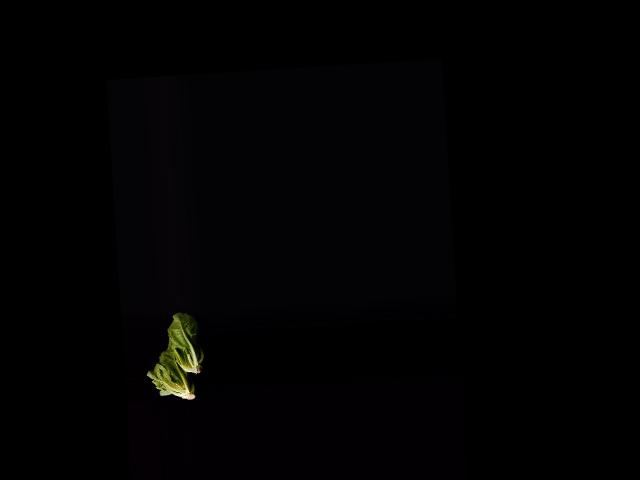lettuce: (145, 338, 202, 402)
